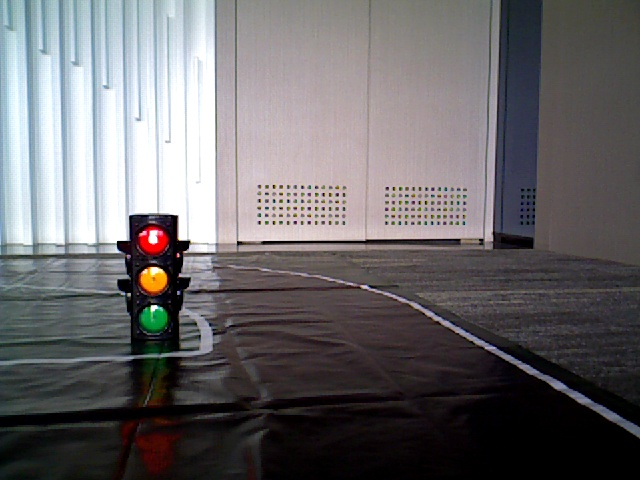red: (130, 215, 177, 340)
